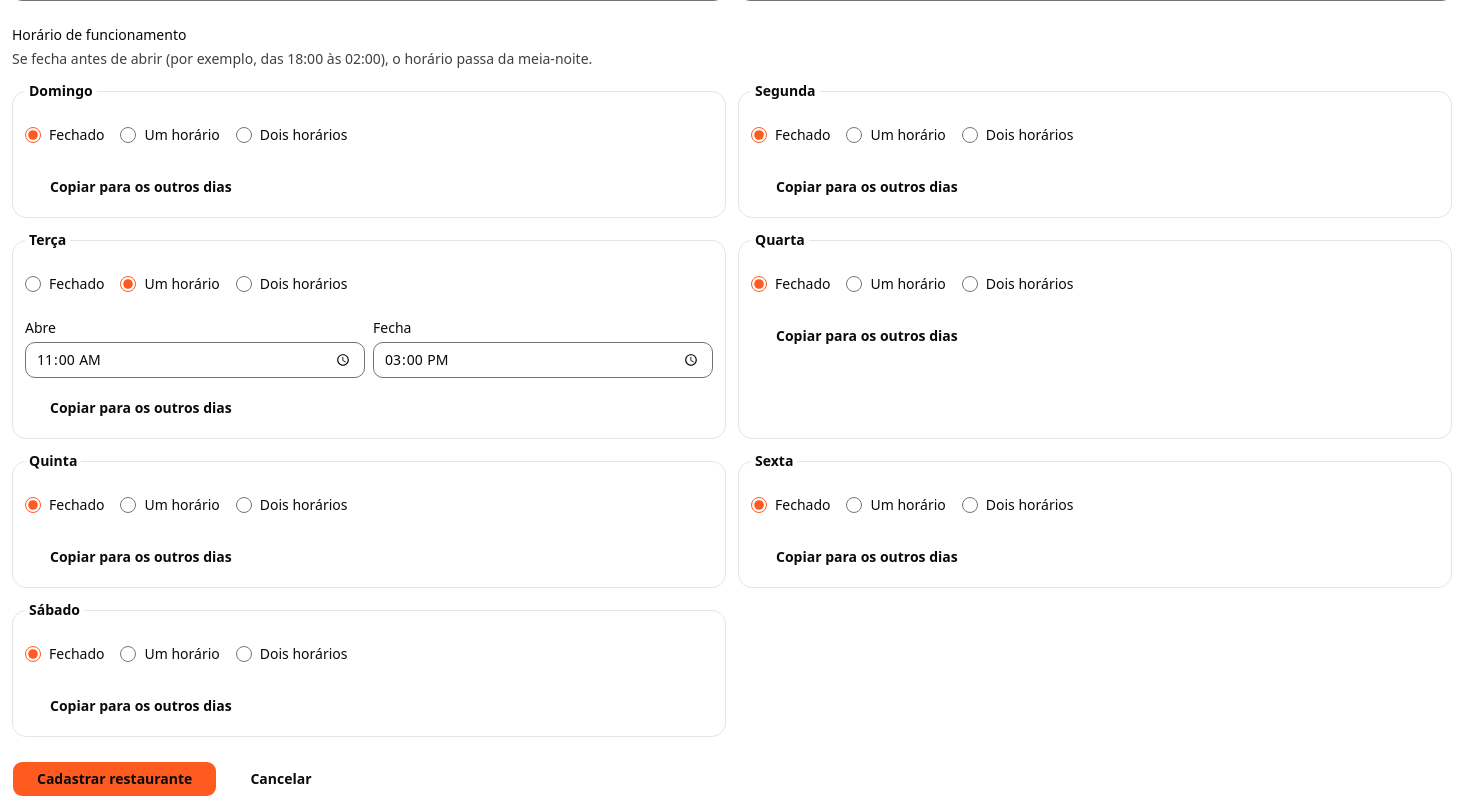
Test: formulário do restaurante (cadastro e edição) › o erro do servidor aparece no formulário, sem sair da tela
(page scrolled)
Click the button "Cadastrar restaurante" at (115, 779), box 12,761 -> 217,796
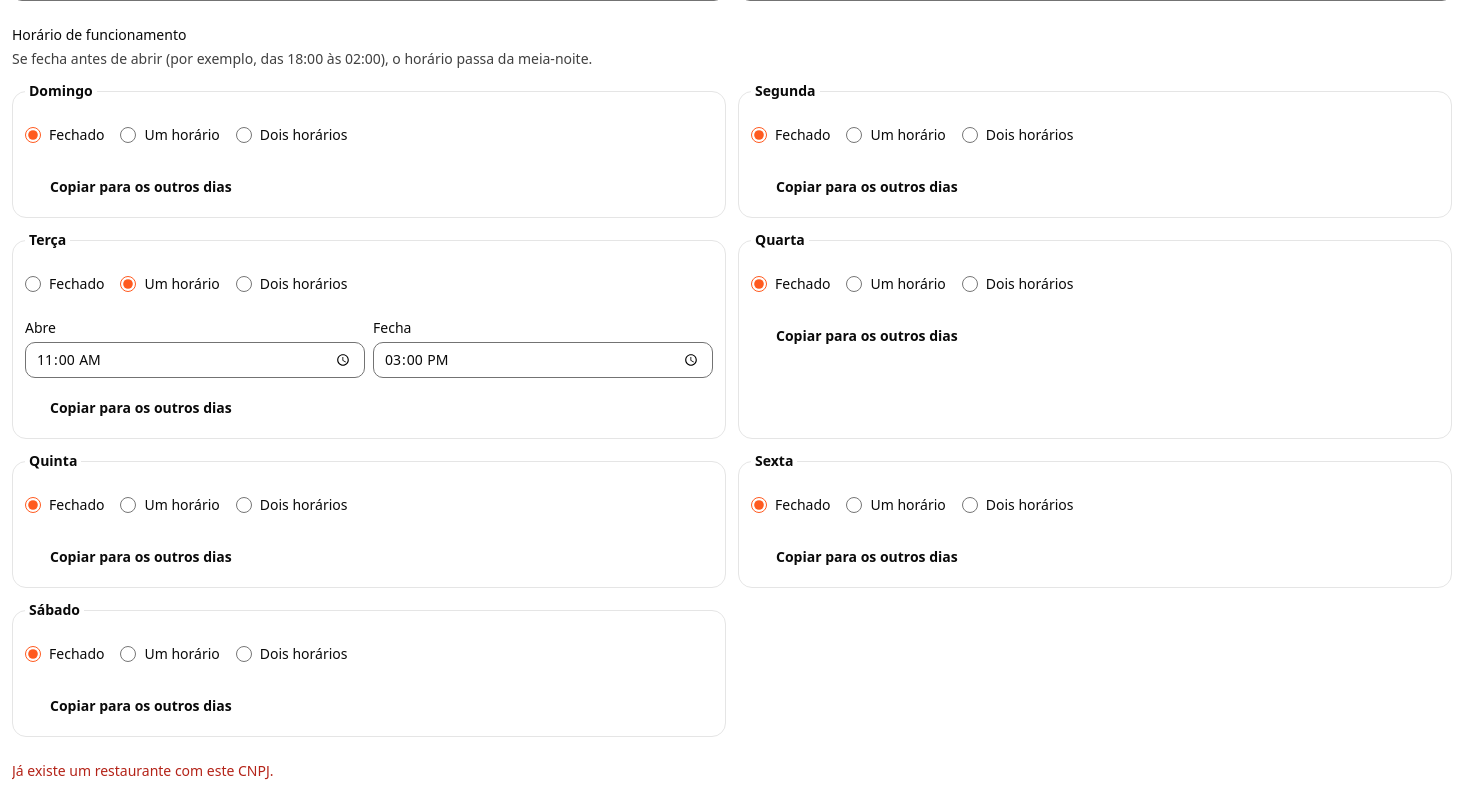
Expected: the text "Já existe um restaurante com este CNPJ." is shown, 12,761 -> 274,780
